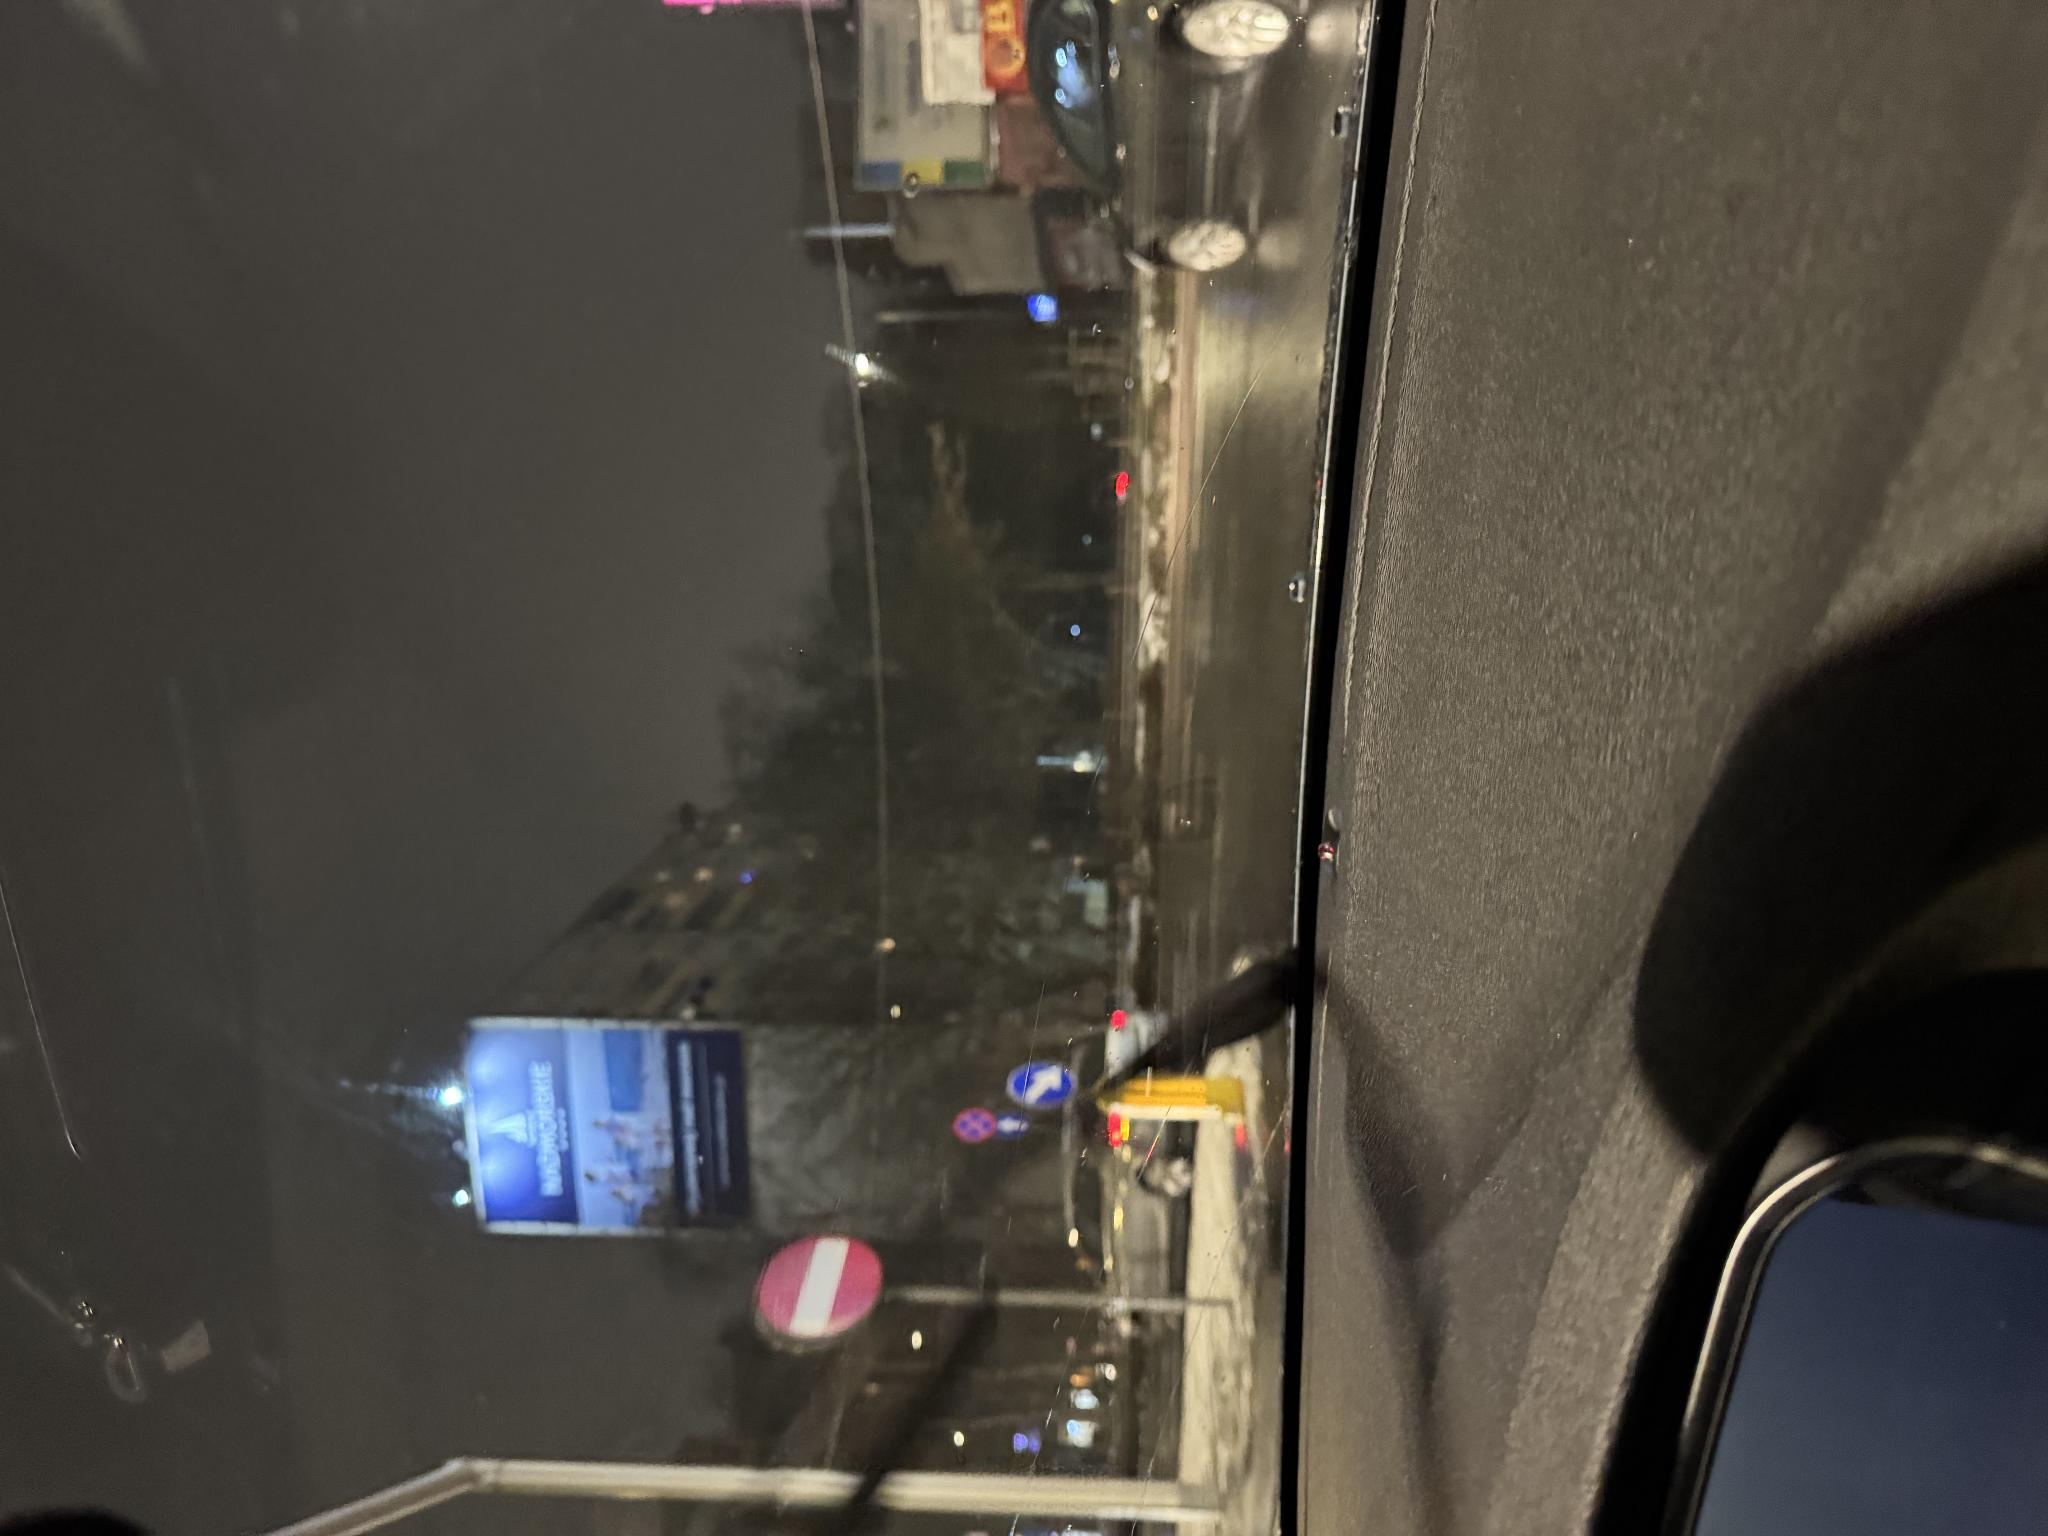information: (397, 995, 424, 1029)
mandatory: (429, 1005, 476, 1070)
prohibitory: (194, 749, 306, 884), (392, 950, 431, 995)
